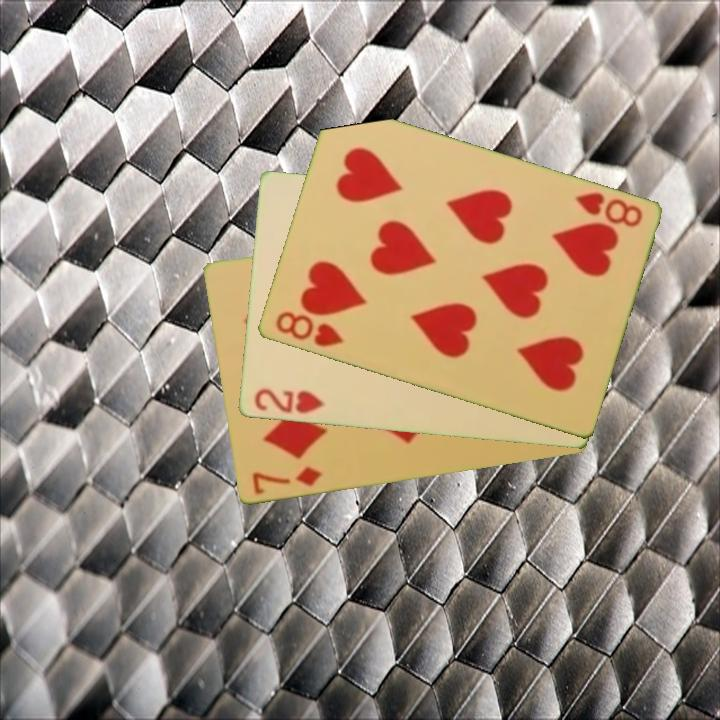2h: (250, 385, 327, 417)
7d: (248, 464, 325, 498)
8h: (570, 188, 645, 231), (271, 308, 346, 350)
